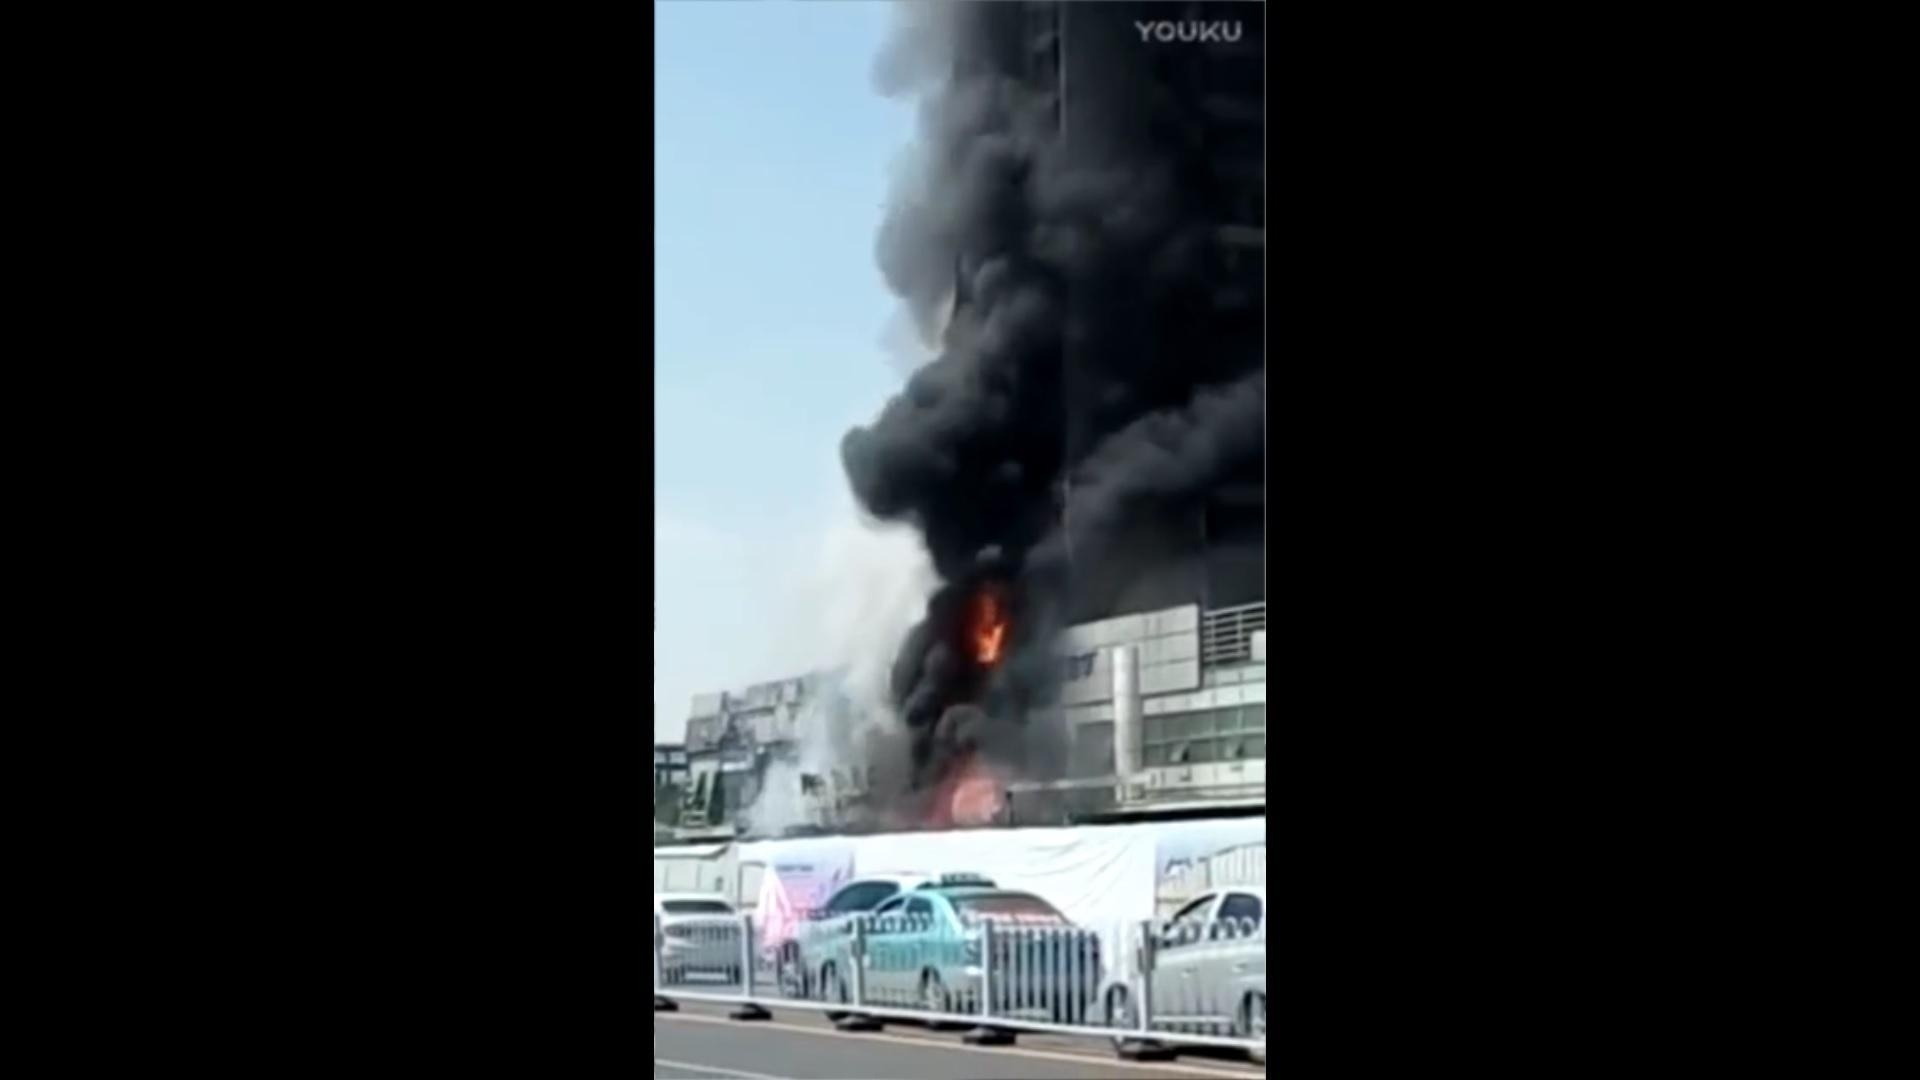fire: (969, 592, 1013, 662)
